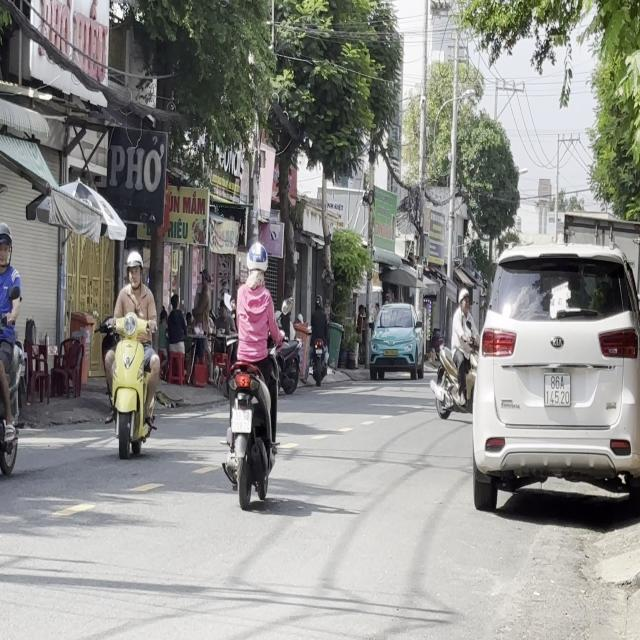helmet: (245, 241, 268, 284), (125, 249, 143, 286), (0, 220, 13, 267)
licenseplate: (221, 238, 283, 506), (101, 248, 162, 458), (0, 219, 26, 483)
nohelmet: (231, 409, 251, 433)
